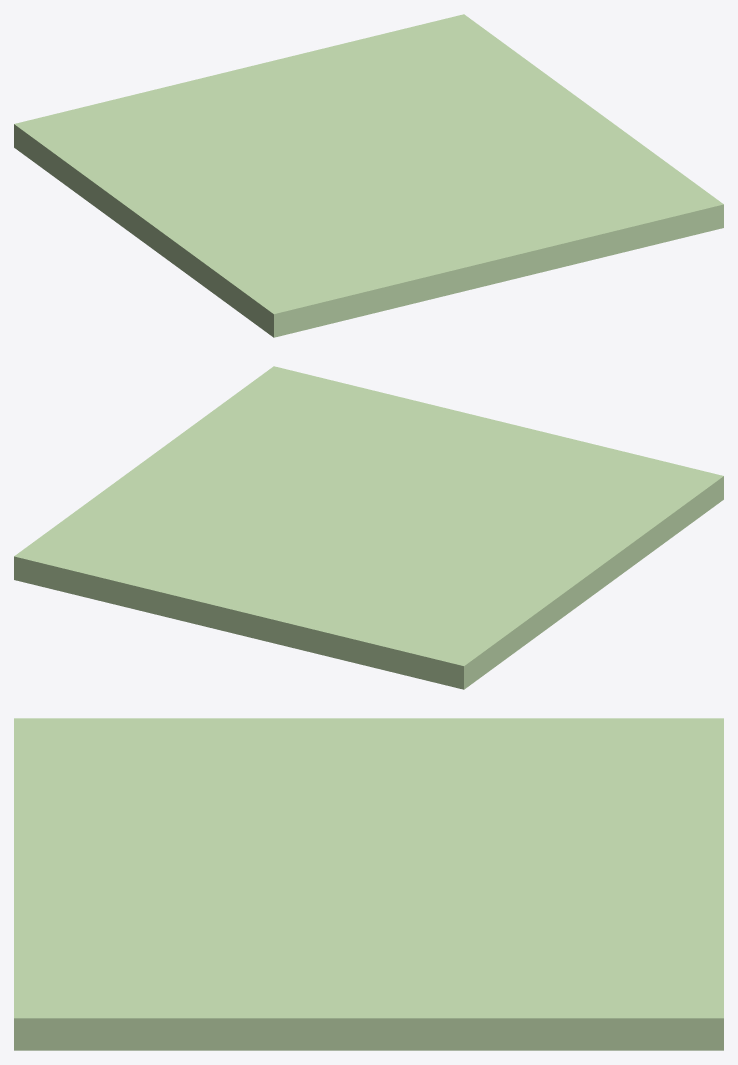
Rendered from ground.glb.
The picture shows the model from 3 angles, top to bottom: view 1: azimuth 30°, elevation 25°; view 2: azimuth 150°, elevation 25°; view 3: azimuth 270°, elevation 25°; orthographic projection. The views are drawn at different scales.
Visible parts, largest first — view 1: Cube; view 2: Cube; view 3: Cube.
Part boxes in pixels (x1=…): Cube: x1=14, y1=14, x2=723, y2=337; Cube: x1=14, y1=366, x2=723, y2=689; Cube: x1=14, y1=718, x2=723, y2=1050.
Size of the model in its own units: 20 by 0.9998 by 20.
